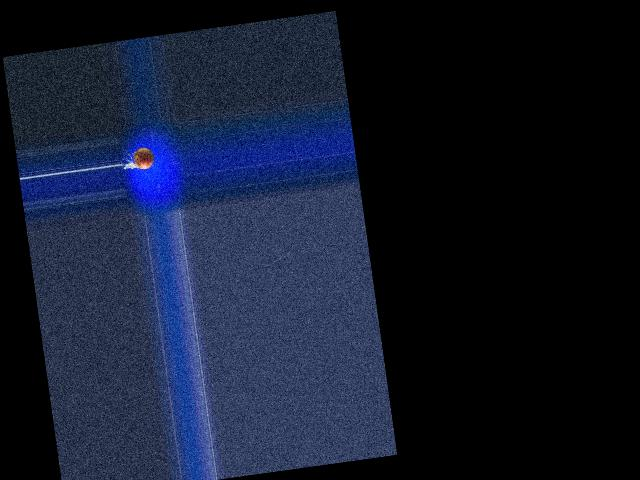tomato: (132, 146, 155, 170)
